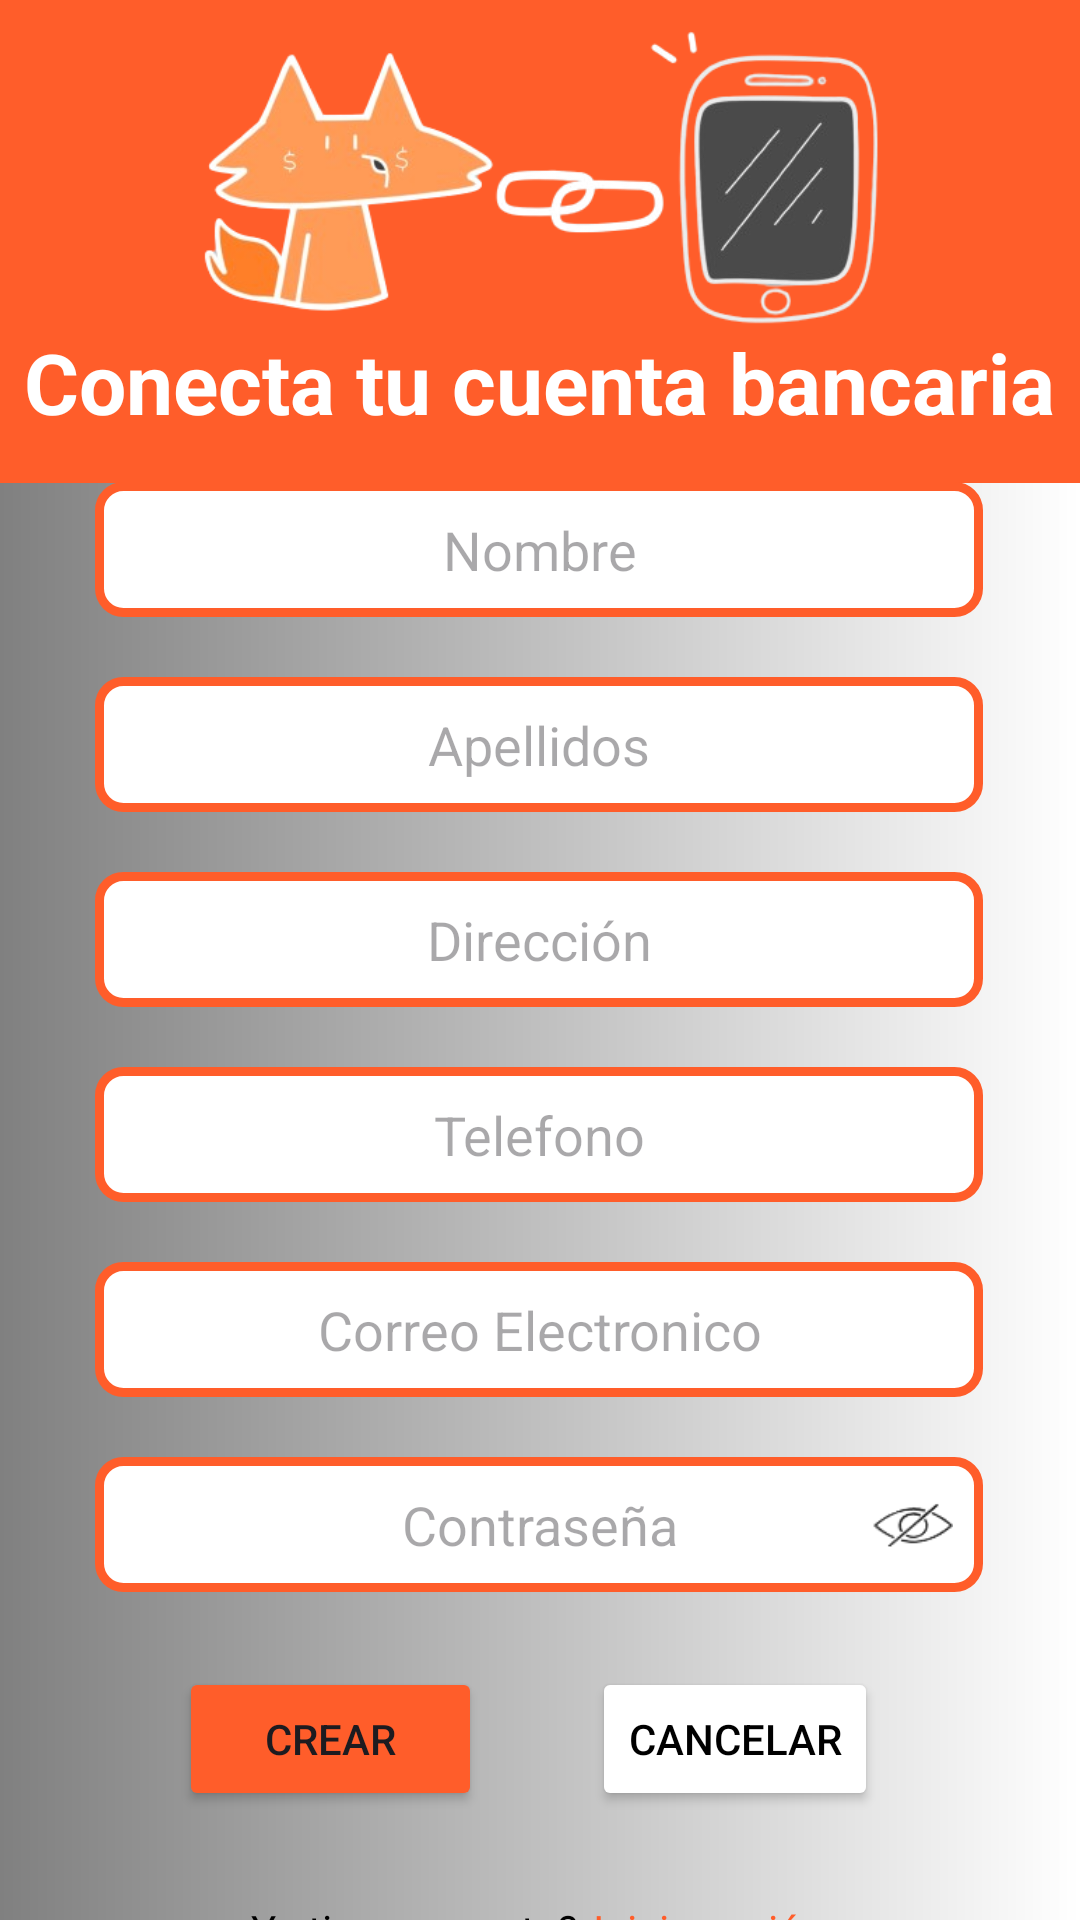

Screen size 1080×1920. Icon name, then its box in pixels as (x1, y1, x2, y2):
eye closed: (873, 1504, 953, 1547)
